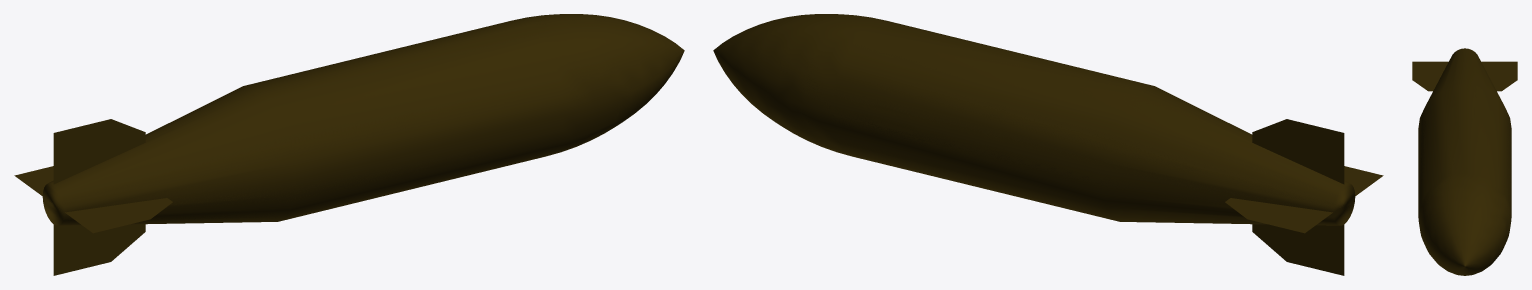
File: bomb.dae
The picture shows the model from 3 angles, left to right: view 1: azimuth 30°, elevation 25°; view 2: azimuth 150°, elevation 25°; view 3: azimuth 270°, elevation 25°; orthographic projection. The views are drawn at different scales.
Visible parts, largest first — view 1: coords_ME_ID3_MA_Bomb; view 2: coords_ME_ID3_MA_Bomb; view 3: coords_ME_ID3_MA_Bomb.
Boxes of the visible parts, x1,y1,x2,y2 form: coords_ME_ID3_MA_Bomb: [14, 14, 684, 275]; coords_ME_ID3_MA_Bomb: [713, 14, 1383, 275]; coords_ME_ID3_MA_Bomb: [1412, 48, 1517, 275].
Bounding box in the file's own units: 14.52 × 3.14 × 3.14.
